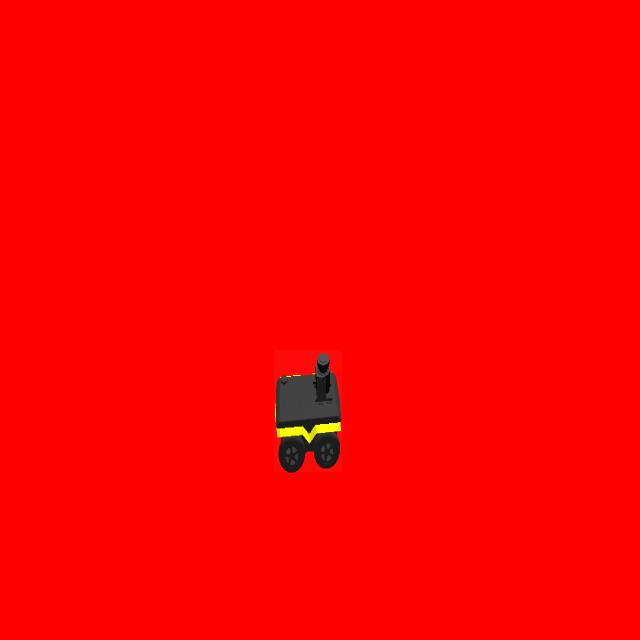jackal: (274, 350, 342, 472)
